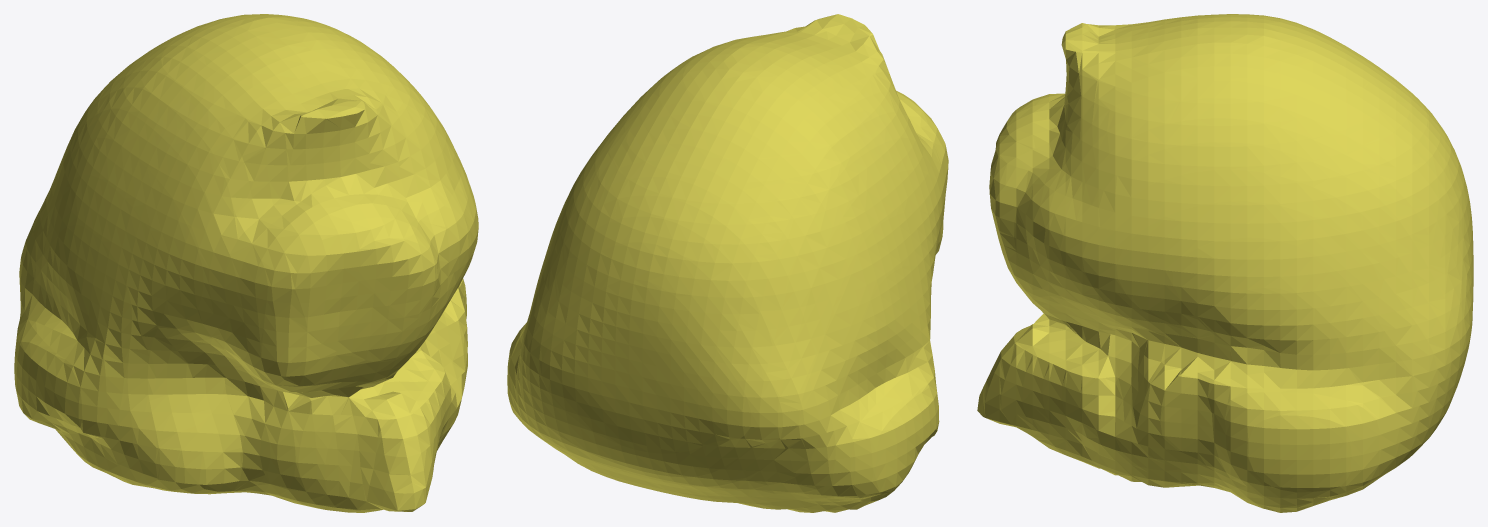
File: BrainHemisphere 1.fbx
3 views of the same model, side by side, from view 1: azimuth 30°, elevation 25°; view 2: azimuth 150°, elevation 25°; view 3: azimuth 270°, elevation 25° (orthographic). The views are drawn at different scales.
Parts seen in each view (by area): view 1: BrainHemisphere; view 2: BrainHemisphere; view 3: BrainHemisphere.
Boxes of the visible parts, x1,y1,x2,y2 form: BrainHemisphere: [14, 14, 478, 512]; BrainHemisphere: [507, 14, 948, 512]; BrainHemisphere: [977, 14, 1473, 512].
Bounding box in the file's own units: 92.78 × 89.58 × 98.93.
